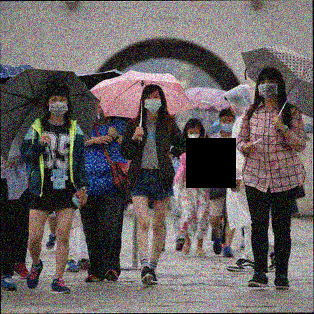with_mask: (47, 95, 69, 117), (258, 78, 279, 101), (143, 91, 163, 115), (220, 116, 235, 133), (187, 129, 201, 144)
